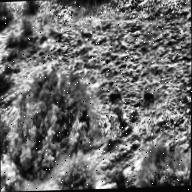boar: (138, 87, 161, 109), (106, 85, 127, 107)
